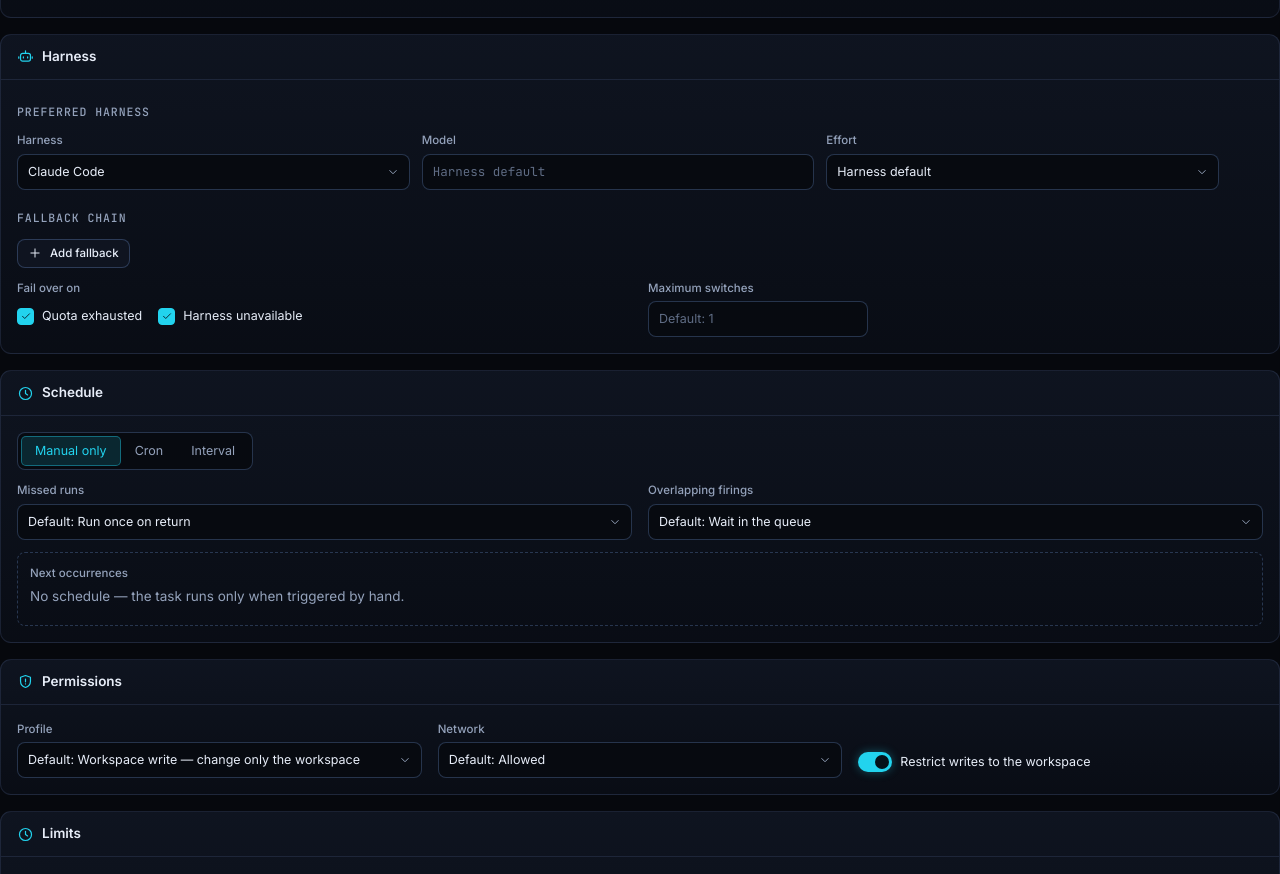
it: task form schedule builder › starts Cron at Weekdays, 09:00, and Interval at 1 hour
The width and height of the screenshot is (1280, 874).
(page scrolled)
Step 1. Click the radio button labelled "Cron" → (149, 451), box [121,436,177,466]
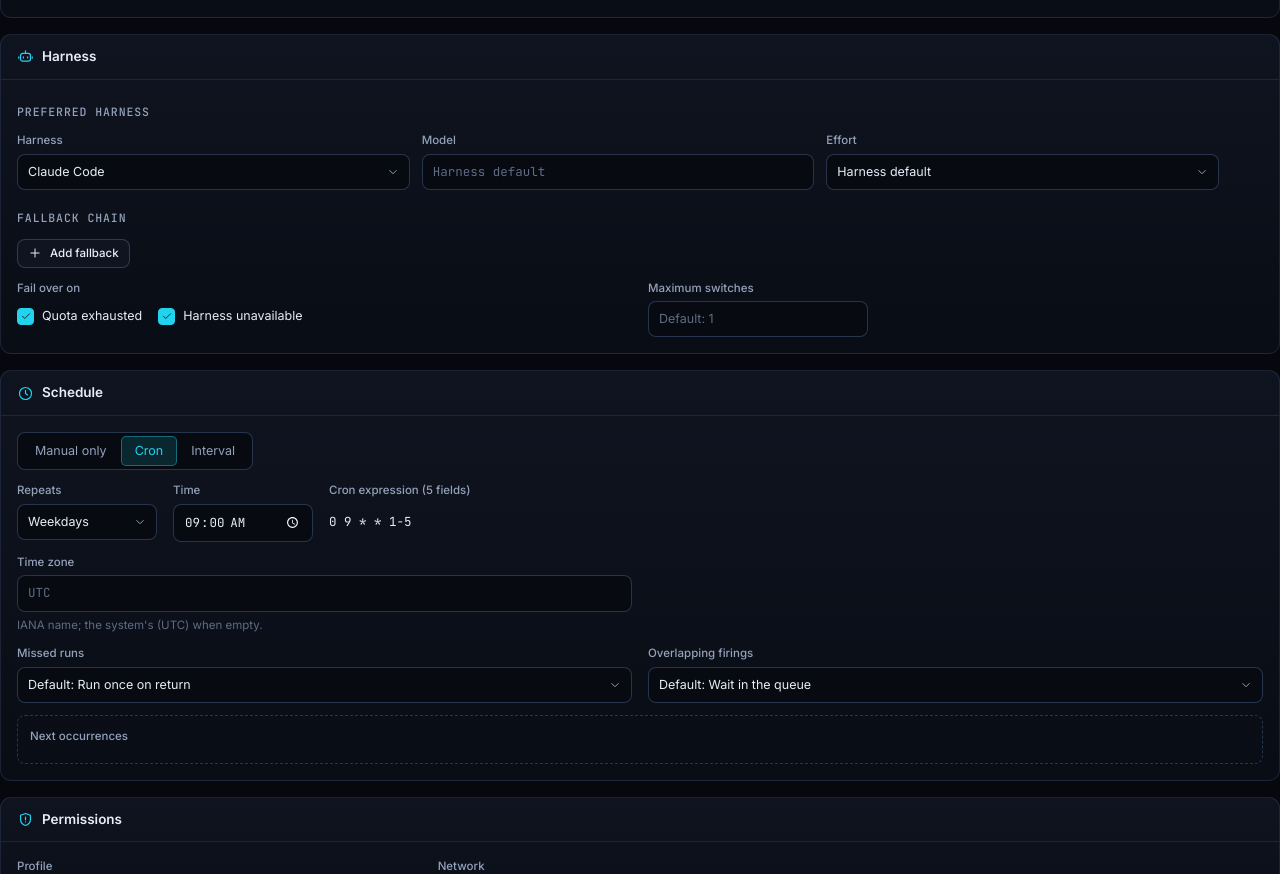
expect the dropdown labelled "Repeats" shows "Weekdays": met, box [17,504,157,540]
expect the time field labelled "Time" holds "09:00": met, box [173,504,313,542]
expect the text "0 9 * * 1-5" is shown: met, box [329,513,412,530]
Step 2. Click the radio button labelled "Interval" → (213, 451), box [177,436,249,466]
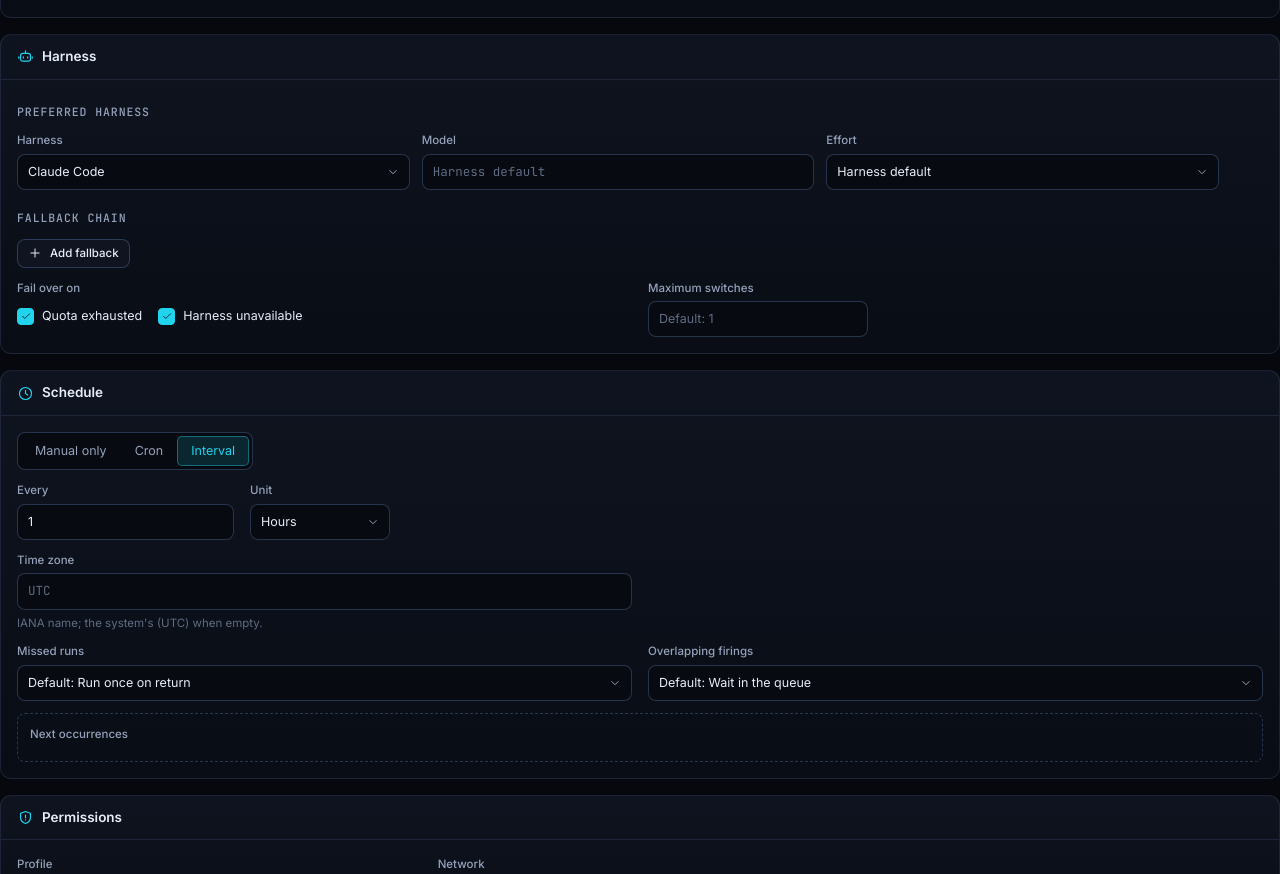
expect the number field labelled "Every" holds "1": met, box [17,504,234,540]
expect the dropdown labelled "Unit" shows "Hours": met, box [250,504,390,540]
